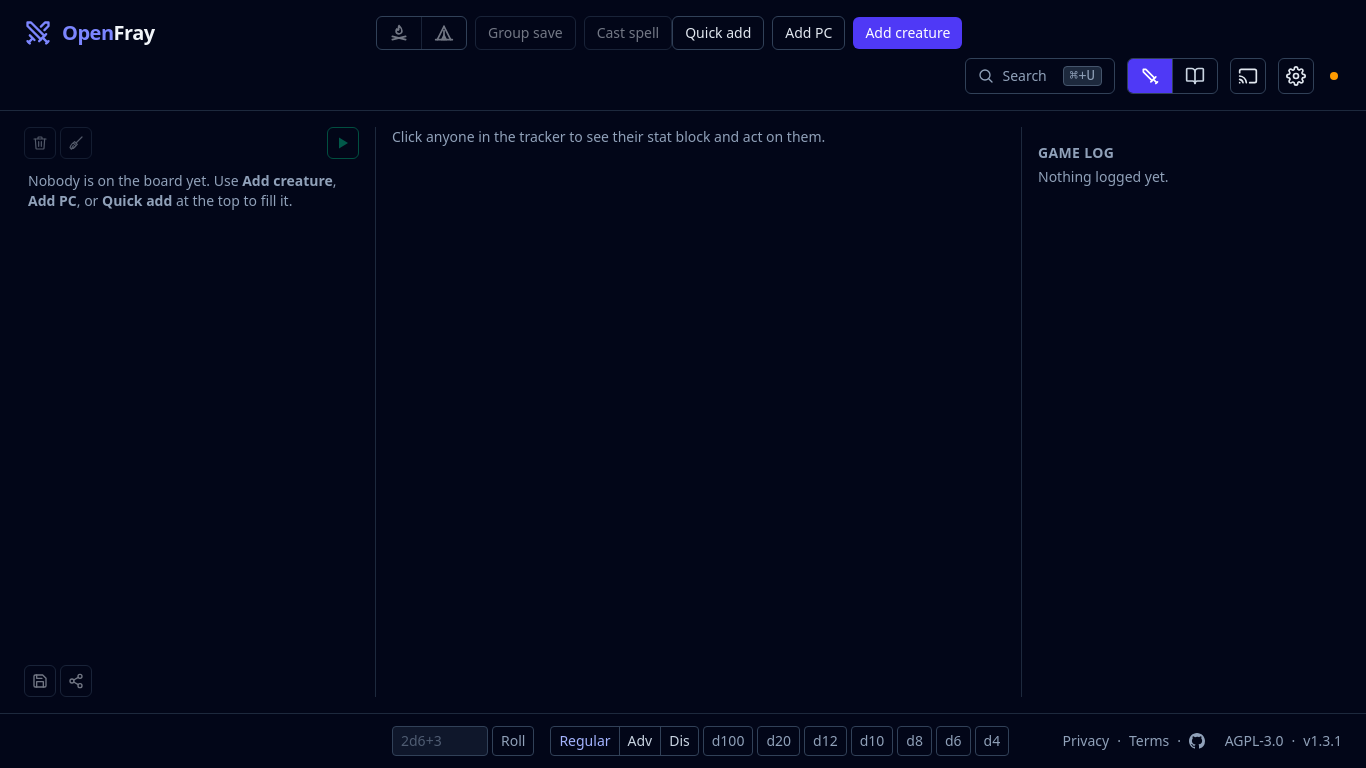
Test: App — keyboard control › displays the rebound search shortcut and closes its reference back to the console
Expected: the button with aria-label "Search references" shows "⌘+U", [966, 58, 1115, 94]
Click the button named "Show the compendium".
click(1194, 76)  # box [1172, 59, 1217, 93]
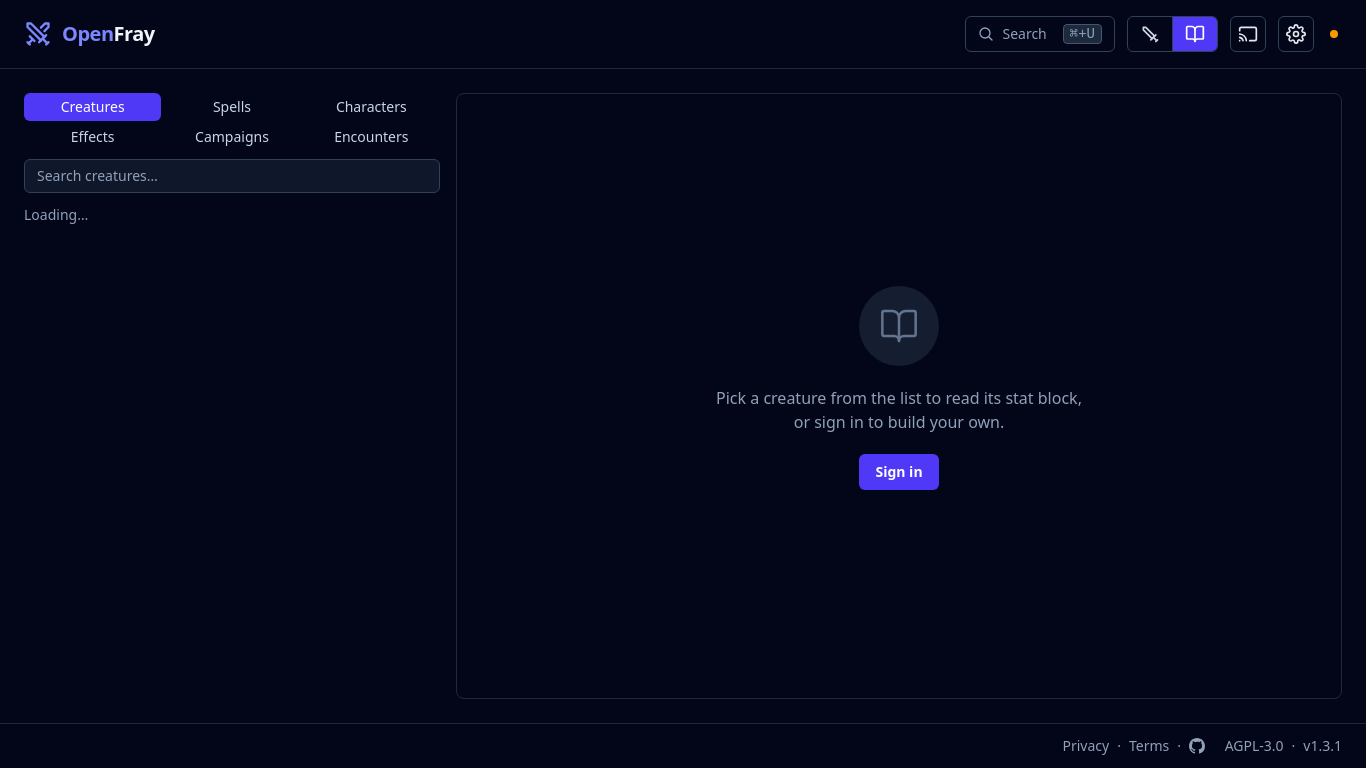
Press u
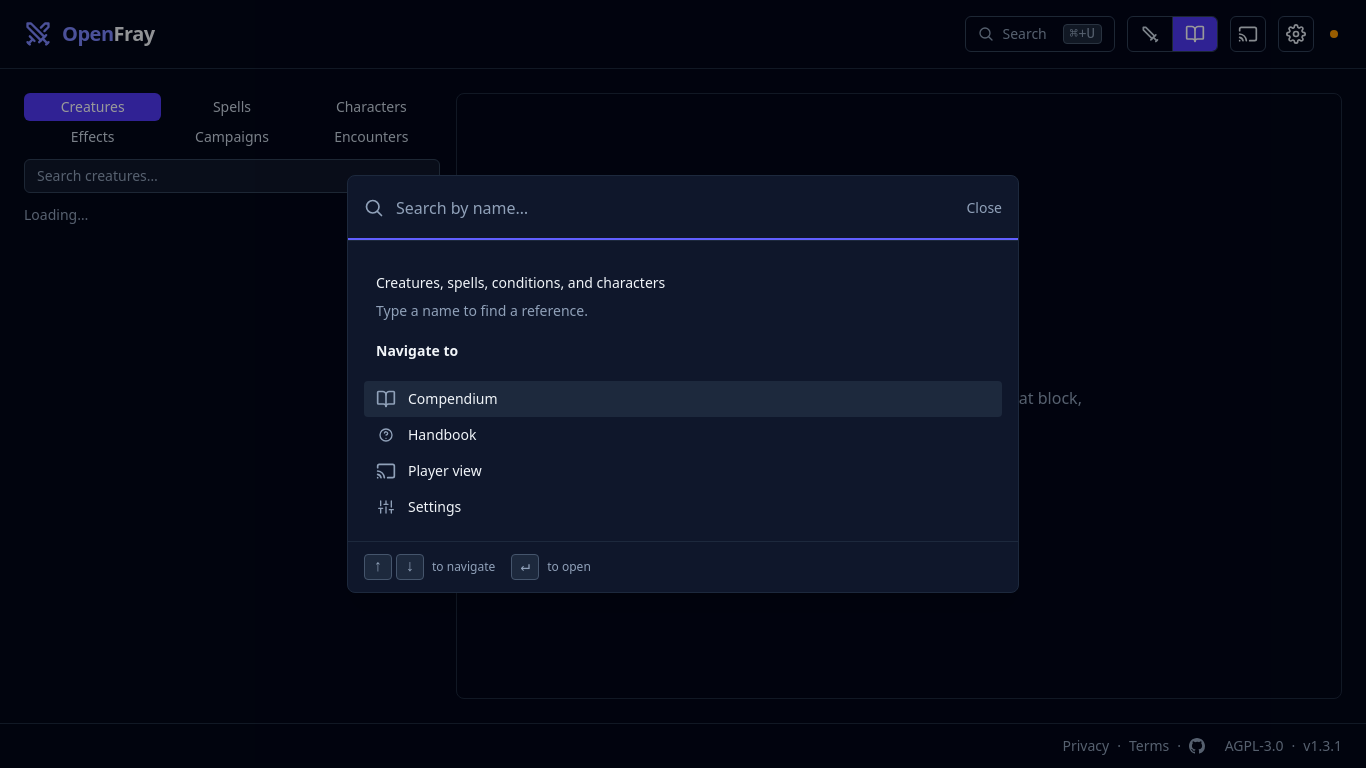
Type "prone" into the dropdown named "Search references".
click(675, 208); type("prone")  # box [396, 192, 954, 224]
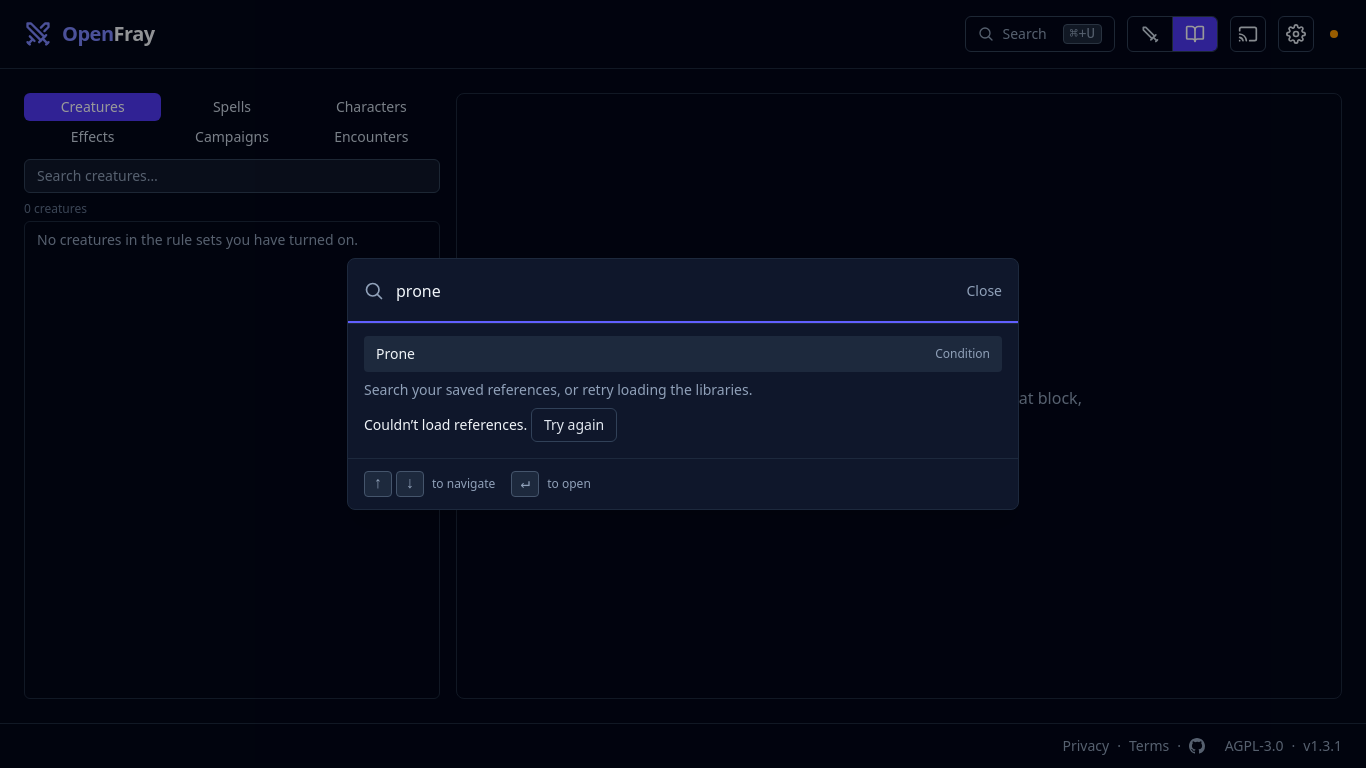
Click the option "Prone Condition".
click(396, 354)  # box [364, 336, 1002, 372]
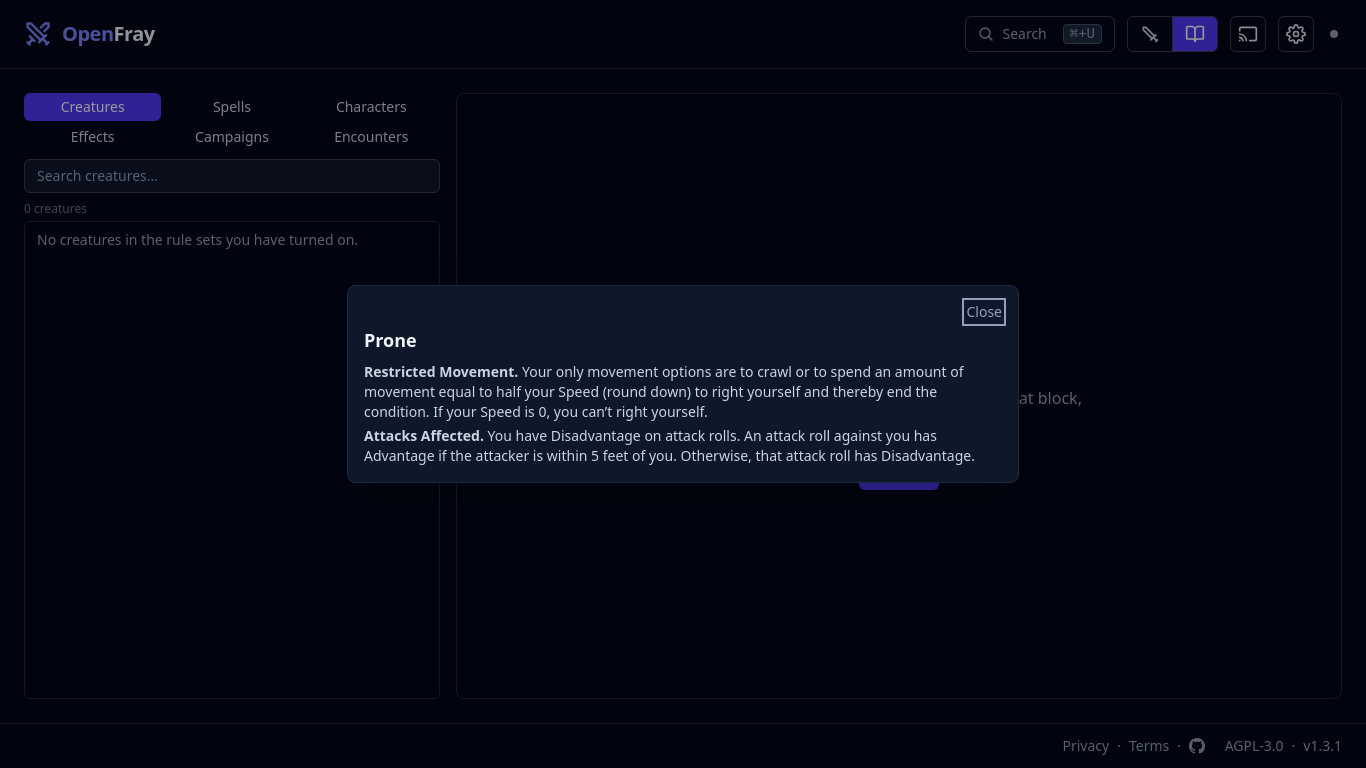
Press Escape in the button "Close", box [966, 302, 1002, 322]
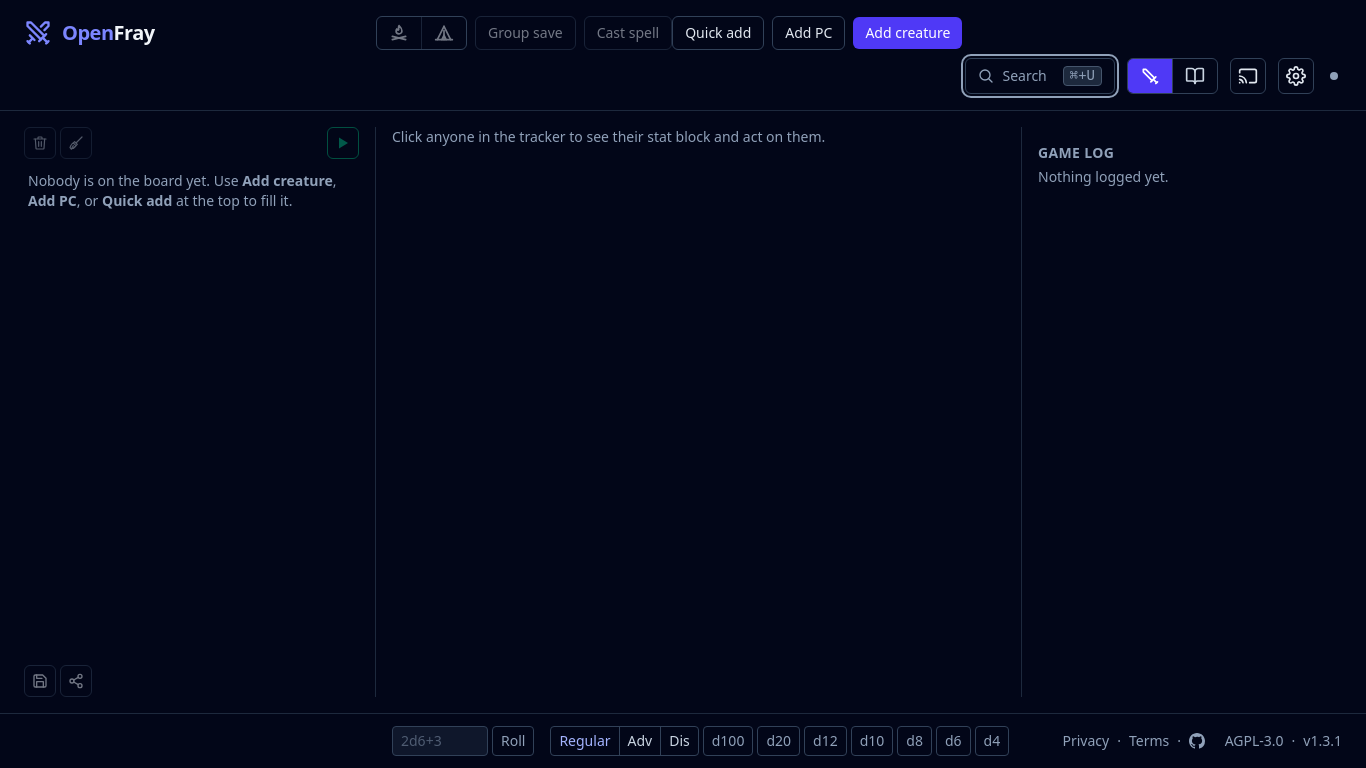
Now the dialog is gone
Now the text "Nobody is on the board yet" is shown, box [28, 171, 242, 190]
